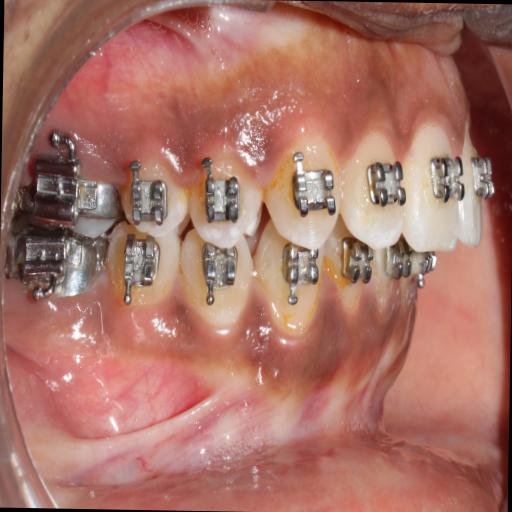correct_brace: (186, 146, 264, 245), (363, 153, 408, 216), (287, 163, 336, 220), (426, 150, 468, 206)
incorrect_brace: (338, 125, 407, 255), (201, 172, 242, 229)
